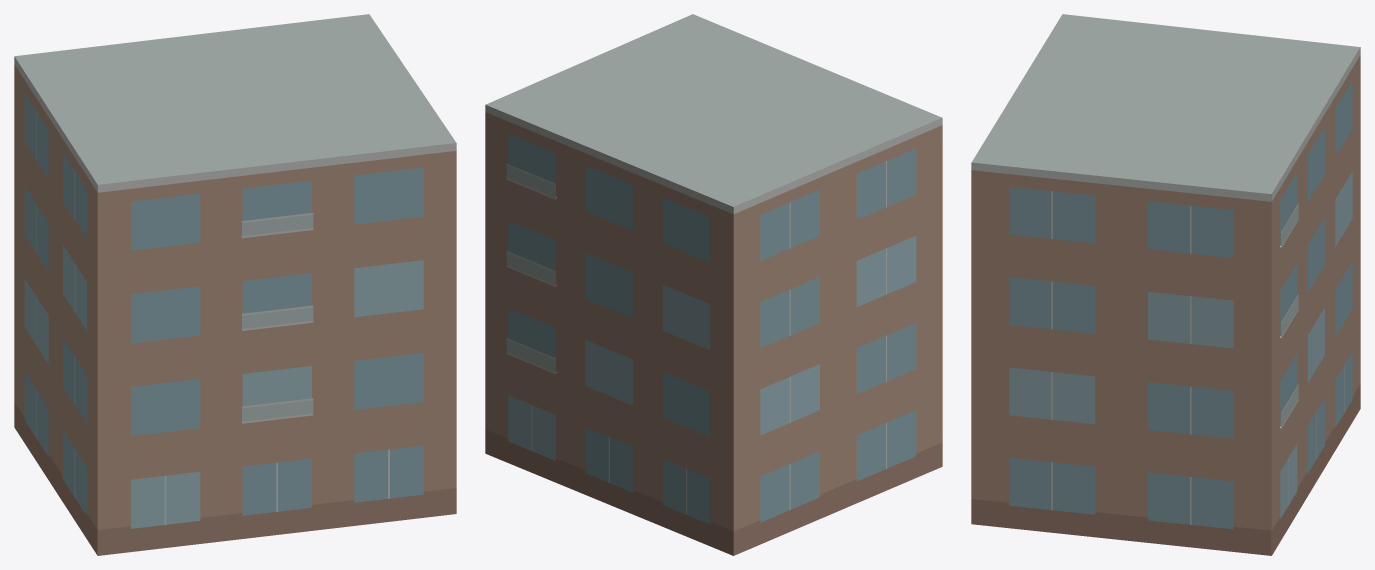
File: survey-upis-32820603.glb
3 renders of one model, left to right at view 1: azimuth 30°, elevation 25°; view 2: azimuth 150°, elevation 25°; view 3: azimuth 270°, elevation 25°, orthographic. The views are drawn at different scales.
Parts seen in each view (by area): view 1: survey-upis-32820603.tmp; view 2: survey-upis-32820603.tmp; view 3: survey-upis-32820603.tmp.
Boxes of the visible parts, <box> form: survey-upis-32820603.tmp: <box>14,14,456,555</box>; survey-upis-32820603.tmp: <box>485,14,942,555</box>; survey-upis-32820603.tmp: <box>971,14,1360,555</box>.
Bounding box in the file's own units: 12.46 × 11.65 × 11.37.
